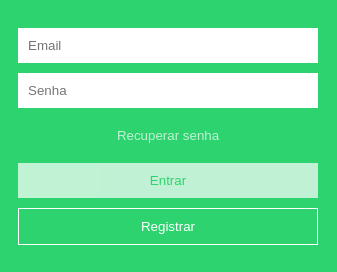
Login › given email › when invalid, then show invalid error message
Type "anyValue" into the field with test id "email" at [168, 45], box 18,28 -> 318,62
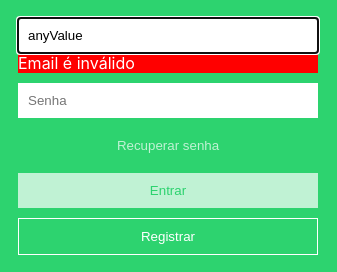
Expected: the text "Email é inválido" is shown, 18,52 -> 318,72
